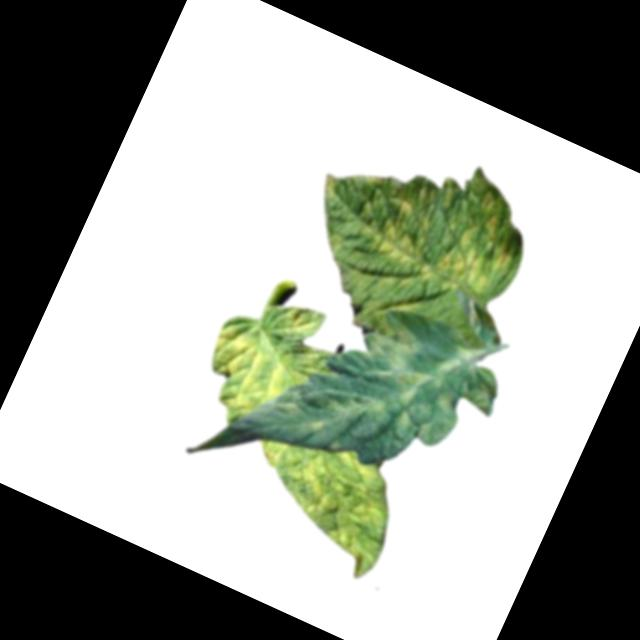Leaf_Mold: (300, 108, 548, 315), (227, 418, 418, 586), (323, 304, 475, 459), (186, 306, 307, 437)
